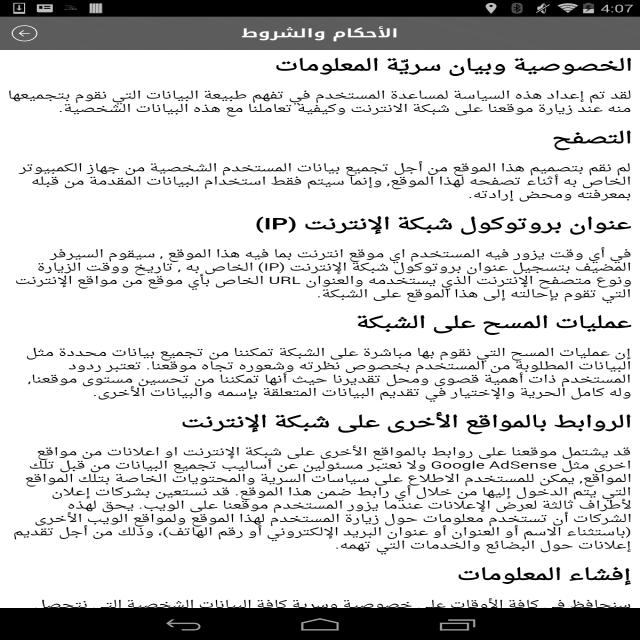Button: (234, 338, 404, 372)
EditText: (32, 179, 559, 201), (32, 222, 559, 244), (32, 264, 559, 286)
ImageView: (11, 17, 38, 50), (570, 180, 602, 200), (570, 222, 602, 242), (570, 266, 602, 286), (564, 182, 566, 198), (564, 224, 566, 240), (564, 268, 566, 284)
TextView: (32, 132, 608, 162), (0, 50, 320, 84), (320, 50, 640, 84), (95, 304, 545, 326), (242, 17, 398, 50), (203, 110, 437, 132)
